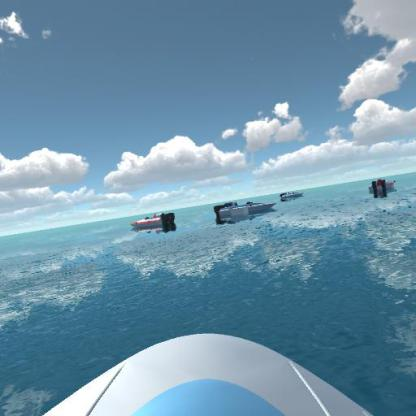usv1: (214, 198, 276, 221), (278, 187, 305, 204)
usv3: (130, 207, 178, 234), (367, 173, 400, 198)
